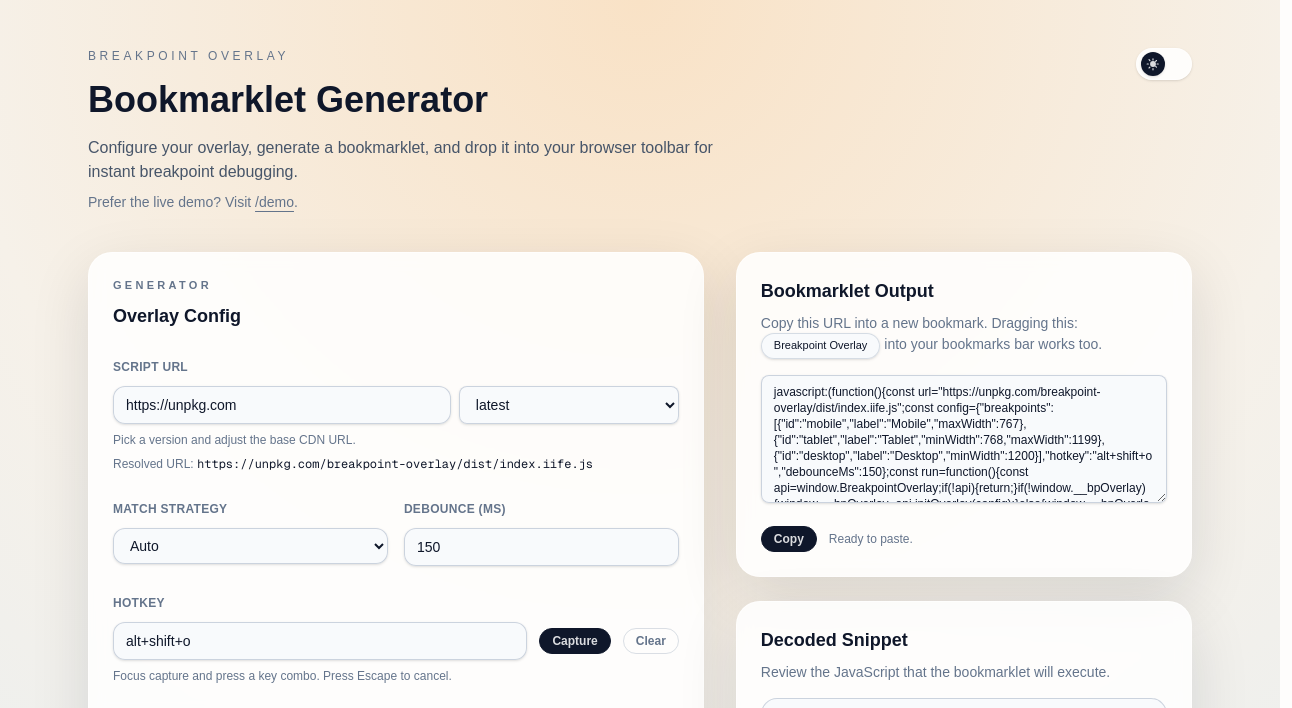
Test: Bookmarklet generator › copies the bookmarklet to the clipboard
Click the button "Copy" at (789, 539), box [761,526,817,552]
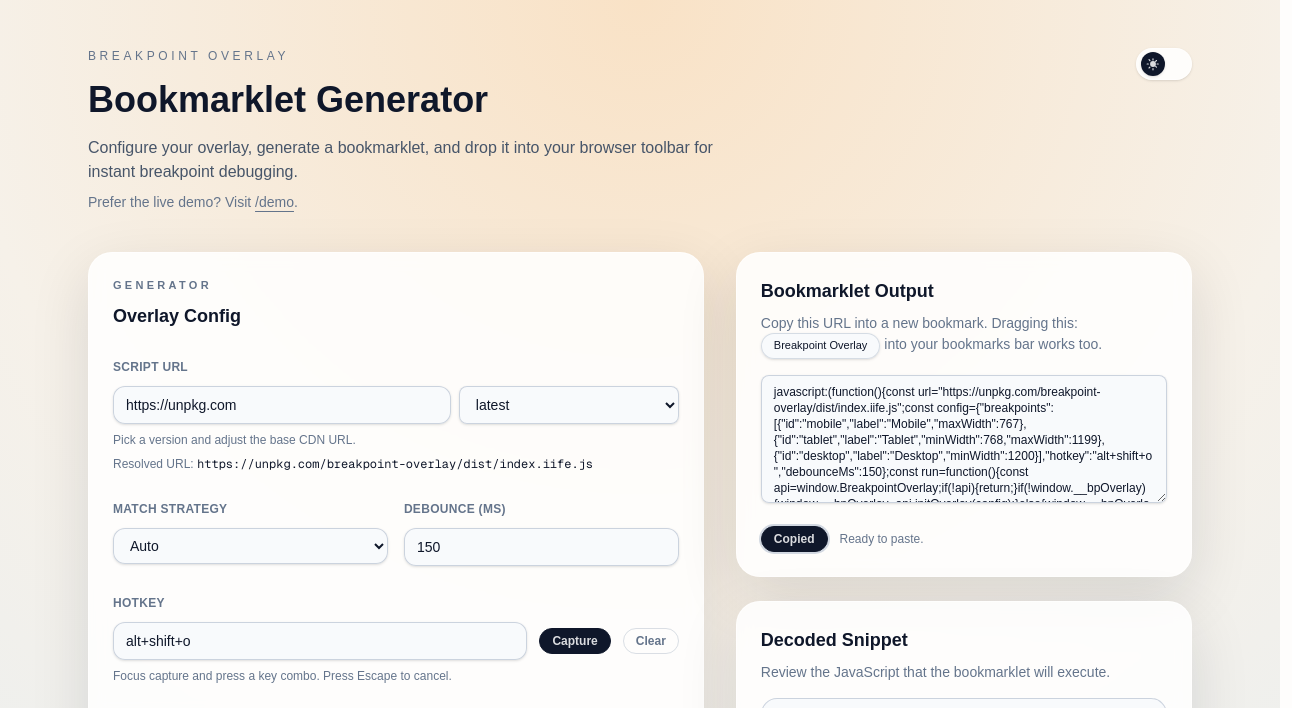
expect the button "Copied" is shown: met, box [761,526,828,552]
